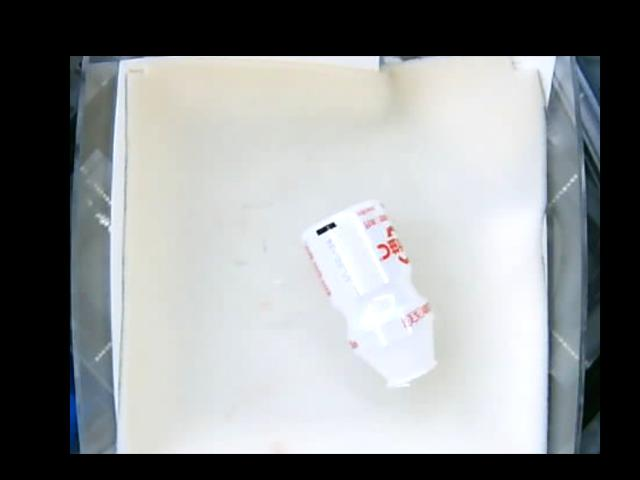Bottle: (302, 198, 440, 389)
